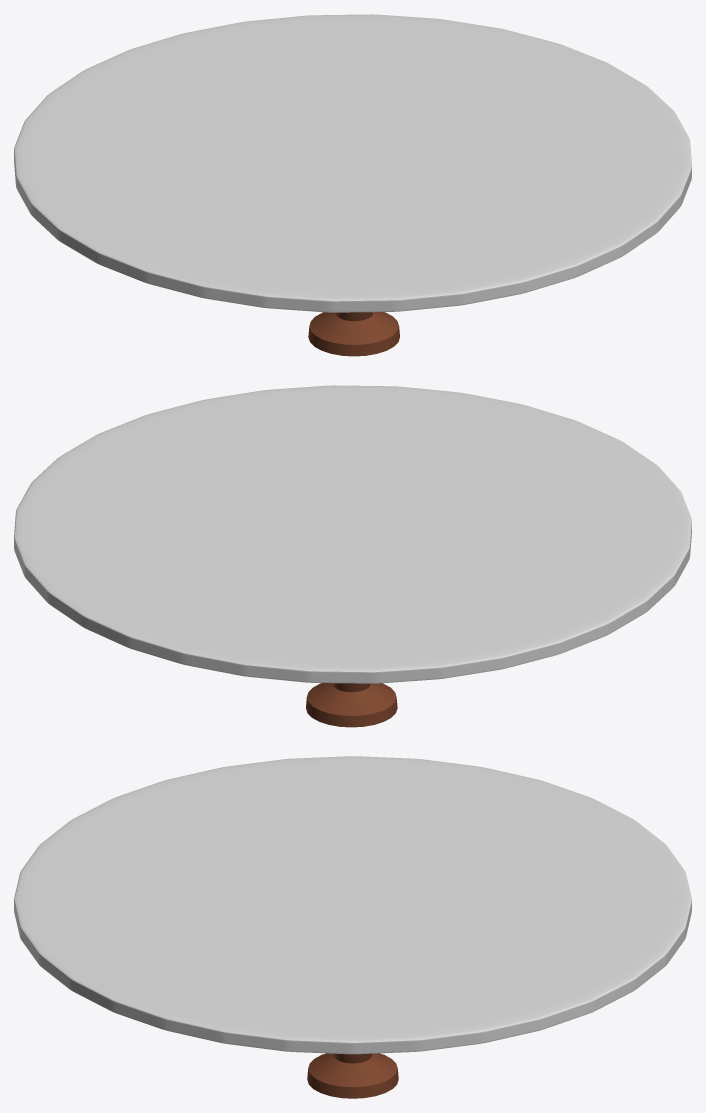
The model's file is Roundtable.fbx.
3 renders of one model, top to bottom at view 1: azimuth 30°, elevation 25°; view 2: azimuth 150°, elevation 25°; view 3: azimuth 270°, elevation 25°, orthographic.
Parts seen in each view (by area): view 1: Circle, Cylinder; view 2: Circle, Cylinder; view 3: Circle, Cylinder.
Boxes of the visible parts, x1=… form: Circle: x1=14, y1=14, x2=691, y2=312; Cylinder: x1=308, y1=312, x2=399, y2=356; Circle: x1=14, y1=385, x2=691, y2=683; Cylinder: x1=306, y1=683, x2=397, y2=727; Circle: x1=14, y1=756, x2=691, y2=1054; Cylinder: x1=307, y1=1053, x2=398, y2=1098.
Size of the model in its own units: 1187 by 349 by 1187.
